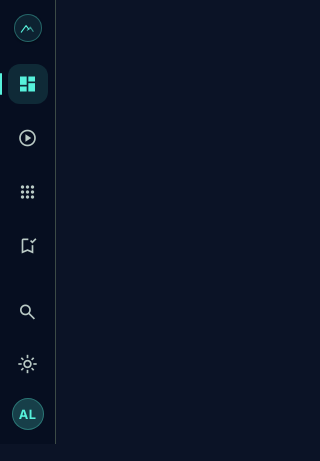
Test: Rail — account menu behind the avatar › opens the menu on click, showing identity and a Sign out item
Click the button with aria-label "account: ada lovelace": (28, 414) [12,398,44,430]
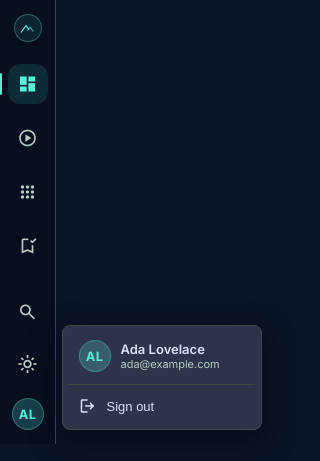
Now the menu is shown, box [62,325,262,430]
Now the text "ada@example.com" is shown, box [120,357,220,371]
Now the menu item "Sign out" is shown, box [68,389,254,423]
